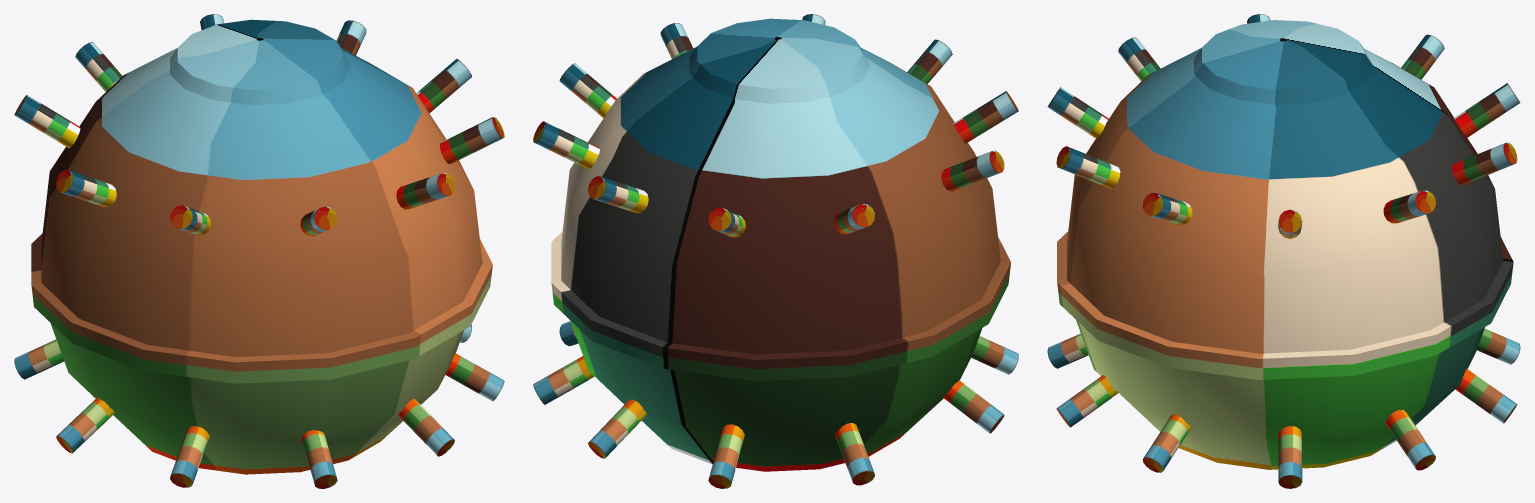
File: Sea_Mine01.fbx
The picture shows the model from 3 angles, left to right: view 1: azimuth 30°, elevation 25°; view 2: azimuth 150°, elevation 25°; view 3: azimuth 270°, elevation 25°; orthographic projection.
Parts seen in each view (by area): view 1: Sphere001, Cylinder010, Cylinder005, Cylinder011, Cylinder012, Cylinder014, Cylinder001, Cylinder015, Cylinder004, Cylinder013, Cylinder006, Cylinder009 (+4 smaller); view 2: Sphere001, Cylinder007, Cylinder002, Cylinder018, Cylinder001, Cylinder019, Cylinder020, Cylinder011, Cylinder008, Cylinder017, Cylinder006, Cylinder012 (+4 smaller); view 3: Sphere001, Cylinder009, Cylinder008, Cylinder017, Cylinder004, Cylinder018, Cylinder003, Cylinder014, Cylinder016, Cylinder015, Cylinder007, Cylinder005 (+5 smaller).
Part boxes in pixels (box(x1,y1,x2,y2)): Sphere001: box(31, 19, 492, 474); Cylinder010: box(14, 95, 80, 148); Cylinder005: box(440, 116, 504, 164); Cylinder011: box(56, 397, 114, 453); Cylinder012: box(170, 426, 209, 487); Cylinder014: box(398, 399, 454, 456); Cylinder001: box(56, 169, 116, 207); Cylinder015: box(445, 353, 504, 401); Cylinder004: box(396, 173, 454, 209); Cylinder013: box(301, 430, 337, 488); Cylinder006: box(416, 59, 471, 113); Cylinder009: box(75, 42, 122, 91); Sphere001: box(551, 18, 1010, 471); Cylinder007: box(533, 121, 599, 169); Cylinder002: box(953, 91, 1018, 143); Cylinder018: box(588, 399, 647, 458); Cylinder001: box(941, 150, 1004, 191); Cylinder019: box(708, 424, 744, 488); Cylinder020: box(835, 423, 874, 485); Cylinder011: box(943, 380, 1004, 433); Cylinder008: box(588, 176, 648, 213); Cylinder017: box(533, 356, 594, 404); Cylinder006: box(559, 63, 616, 117); Cylinder012: box(971, 336, 1018, 374); Sphere001: box(1057, 20, 1513, 469); Cylinder009: box(1454, 83, 1520, 137); Cylinder008: box(1452, 142, 1517, 185); Cylinder017: box(1385, 410, 1435, 470); Cylinder004: box(1056, 146, 1120, 188); Cylinder018: box(1455, 369, 1517, 423); Cylinder003: box(1047, 87, 1108, 138); Cylinder014: box(1056, 375, 1118, 427); Cylinder016: box(1278, 426, 1302, 488); Cylinder015: box(1143, 414, 1190, 472); Cylinder007: box(1383, 190, 1435, 223); Cylinder005: box(1142, 193, 1192, 224).
Bounding box in the file's own units: 38.72 × 36.39 × 37.65.
3 materials, 3 textured.
